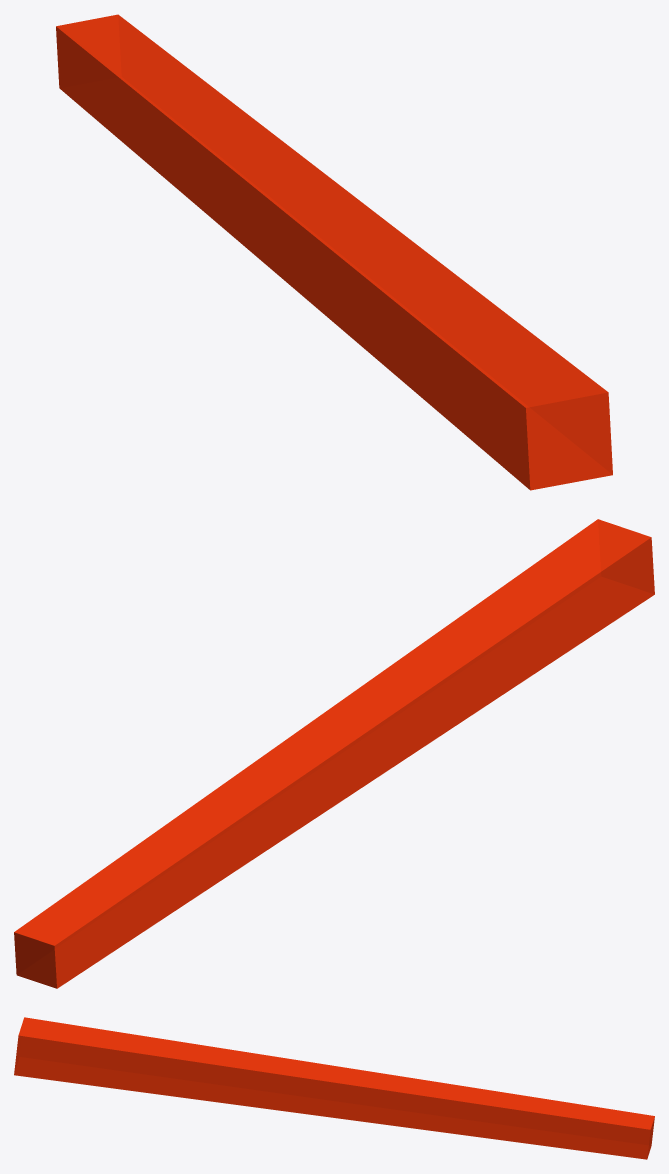
File: Event_420604493_EBrechit_2.fbx
3 views of the same model, one above another, from view 1: azimuth 30°, elevation 25°; view 2: azimuth 150°, elevation 25°; view 3: azimuth 270°, elevation 25° (orthographic). The views are drawn at different scales.
Visible parts, largest first — view 1: Model; view 2: Model; view 3: Model.
Part boxes in pixels (x1,y1,x2,y2): Model: (56, 14, 612, 490); Model: (14, 519, 654, 988); Model: (14, 1017, 654, 1159).
Size of the model in its own units: 0.2117 by 0.1662 by 1.07.
